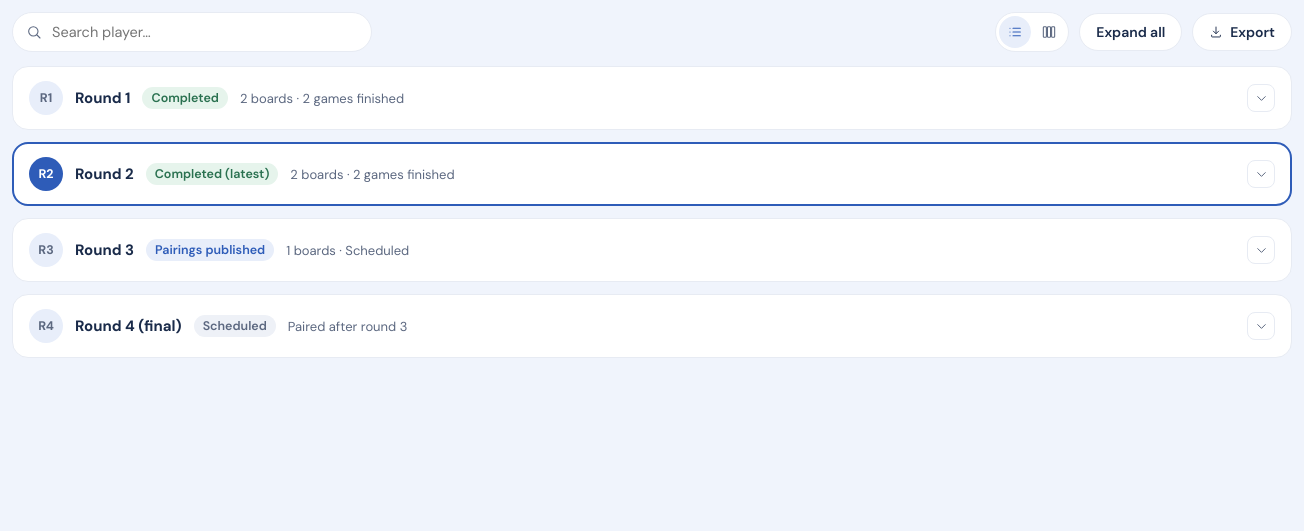
it: the boards themselves › prints the arbiter's own result text
The width and height of the screenshot is (1304, 531).
Click the button "R1 Round 1 Completed 2 boards · 2 games finished": (46, 98) [13,67,1291,129]
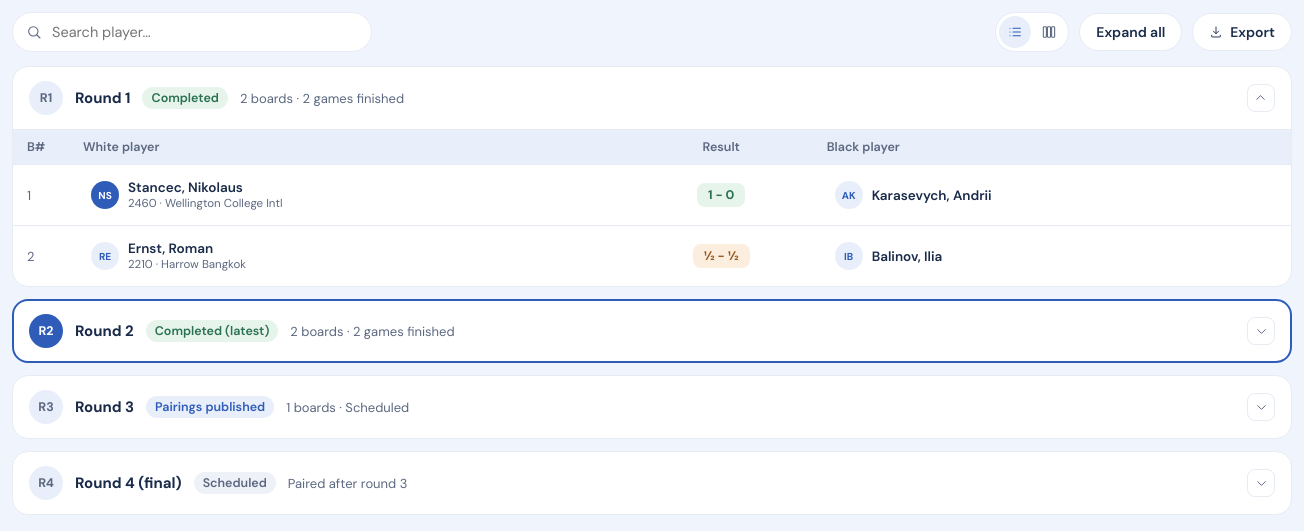
Now the text "1 - 0" is shown, box [697,183,745,207]
Now the text "½ - ½" is shown, box [693,244,750,268]
